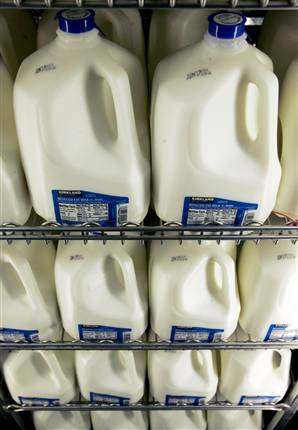milk: (16, 17, 148, 234), (154, 15, 283, 234), (152, 234, 243, 349), (54, 236, 148, 342), (245, 236, 298, 349), (2, 249, 63, 340), (218, 346, 298, 405), (2, 348, 79, 407), (78, 347, 149, 407), (144, 353, 220, 401)
